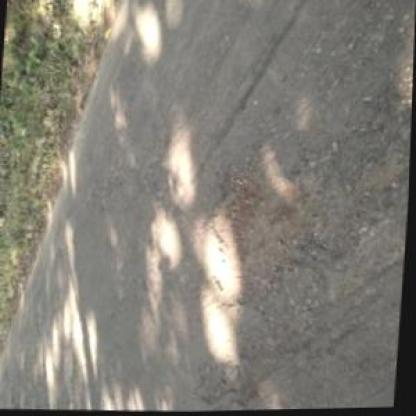pothole: (204, 154, 366, 311)
